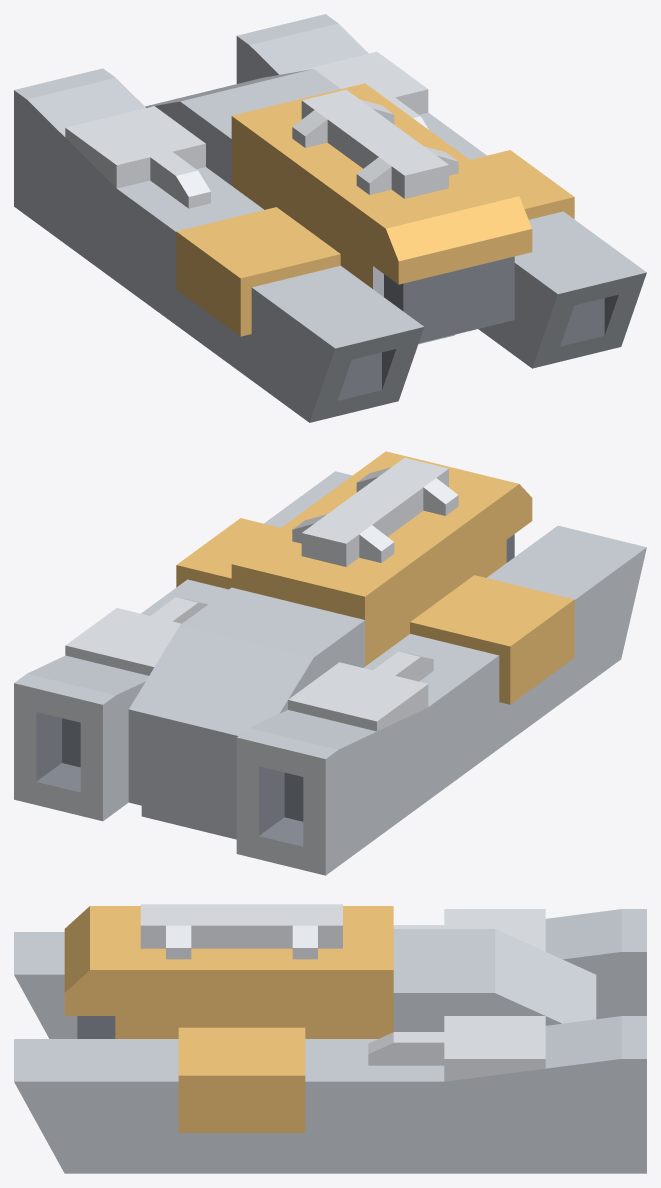
Rendered from craft_cargoB.gltf.
3 views of the same model, one above another, from view 1: azimuth 30°, elevation 25°; view 2: azimuth 150°, elevation 25°; view 3: azimuth 270°, elevation 25° (orthographic).
Parts seen in each view (by area): view 1: craft_cargoB; view 2: craft_cargoB; view 3: craft_cargoB.
Boxes of the visible parts, bbox=[...] form: craft_cargoB: bbox=[14, 14, 646, 422]; craft_cargoB: bbox=[14, 451, 646, 875]; craft_cargoB: bbox=[14, 904, 646, 1173].
Bounding box in the file's own units: 1.5 × 0.9 × 2.5.
